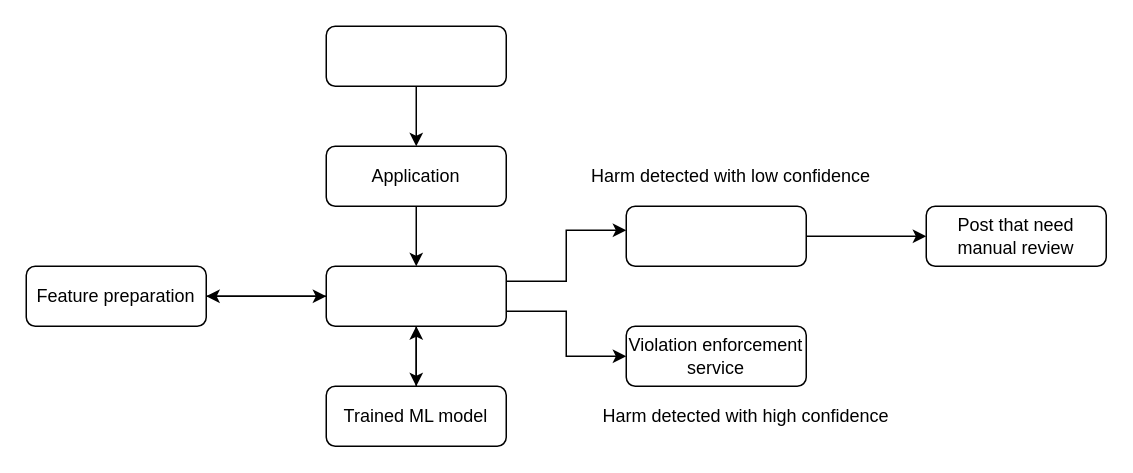
Some shapes in this 1133 by 473 pixel diagram are drawn without their labels. Each missing label, with the box of its shape:
Demoting service: (625, 205, 806, 266)
Harmful content detection service: (325, 265, 506, 326)
User: (325, 25, 506, 86)
